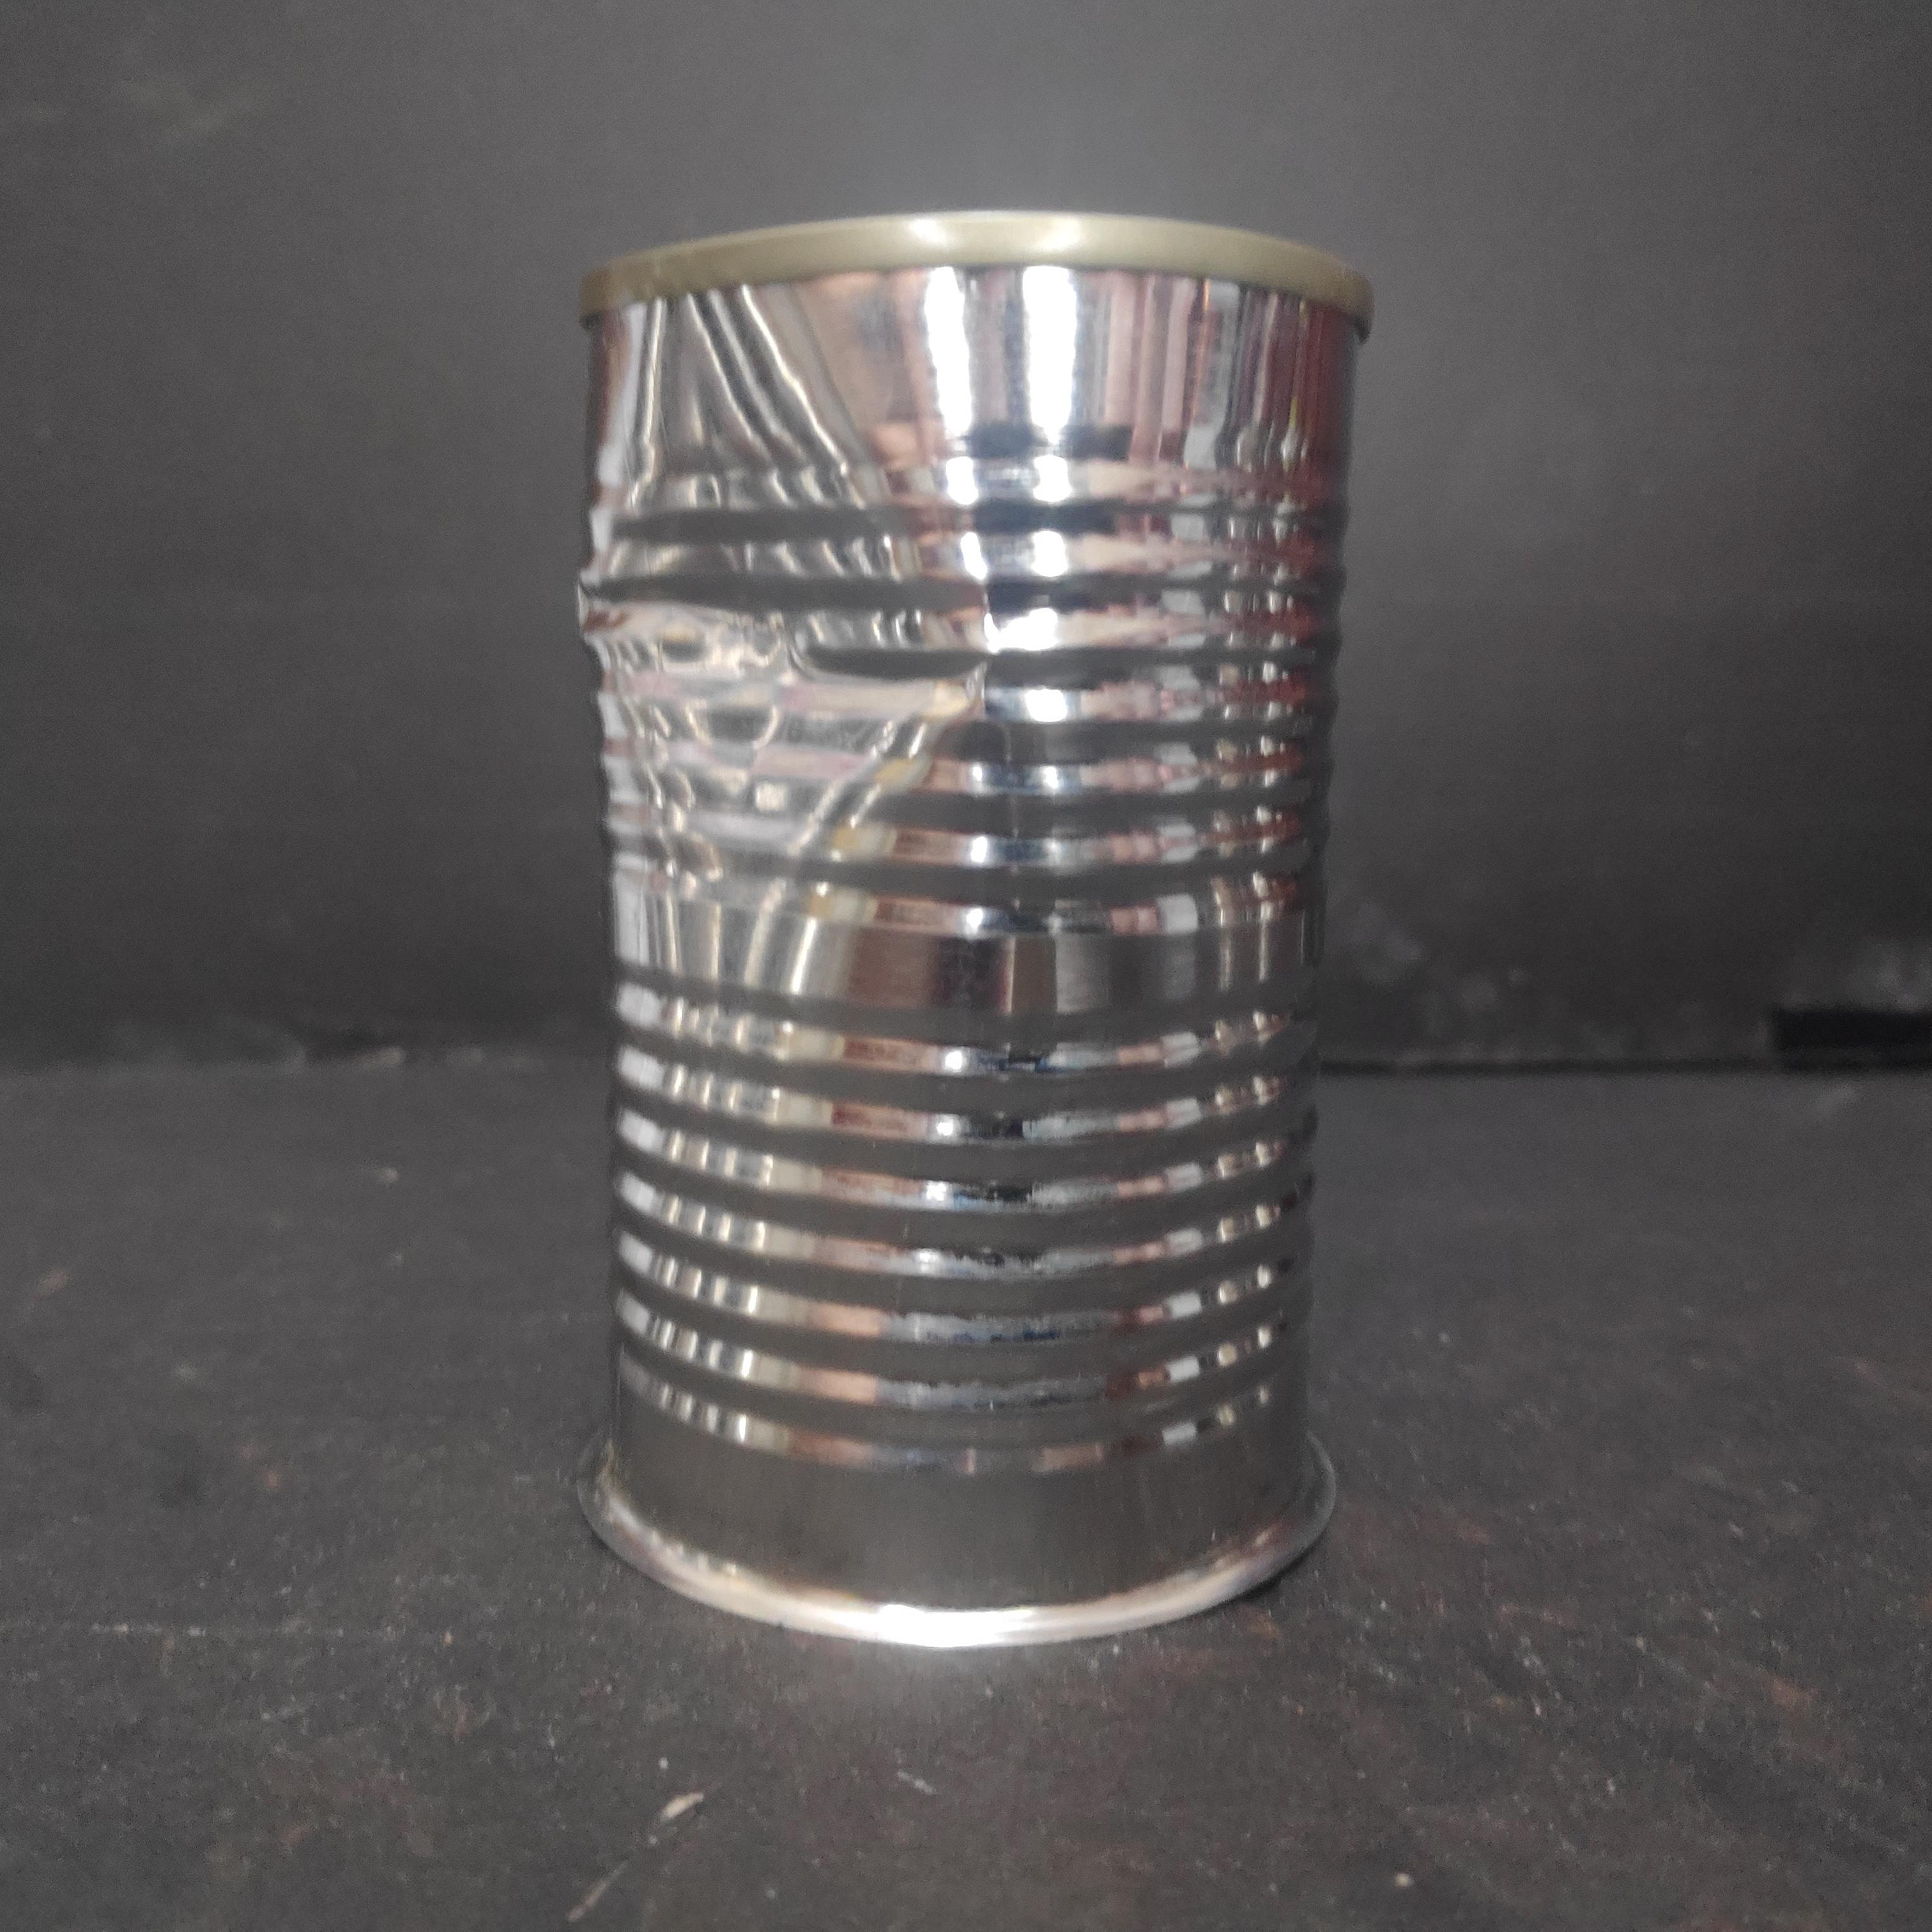Minor Defect: (567, 205, 1375, 1666)
